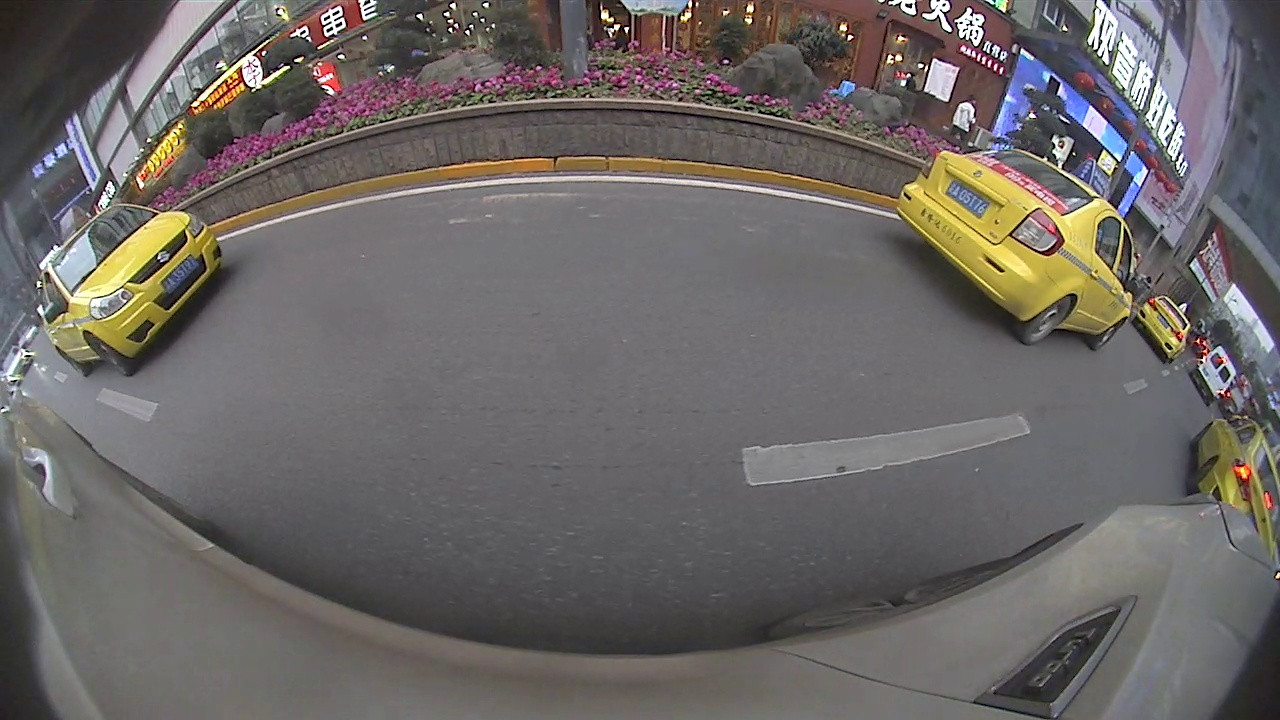car: (894, 148, 1143, 353), (37, 203, 226, 378), (1187, 413, 1278, 563), (1136, 294, 1191, 365), (1188, 344, 1240, 406)
front: (85, 336, 131, 378), (1088, 318, 1127, 352), (1188, 423, 1212, 449)
rear: (1017, 295, 1079, 346), (1186, 456, 1219, 488), (55, 351, 88, 378)
